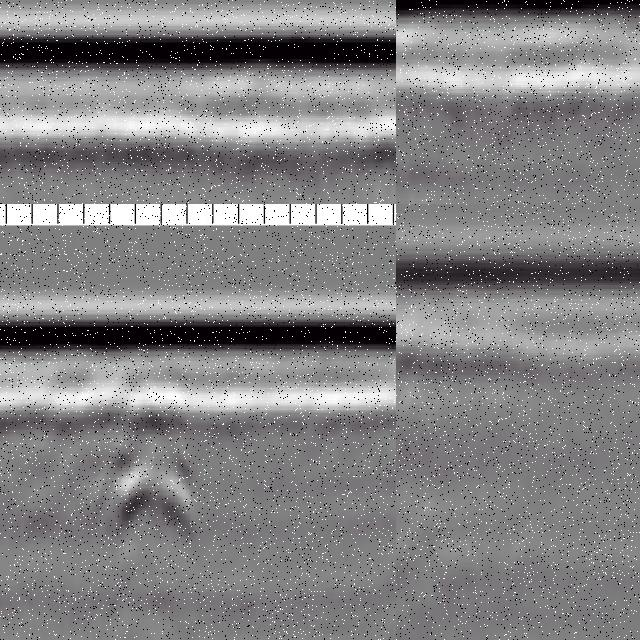loose: (1, 387, 195, 541)
